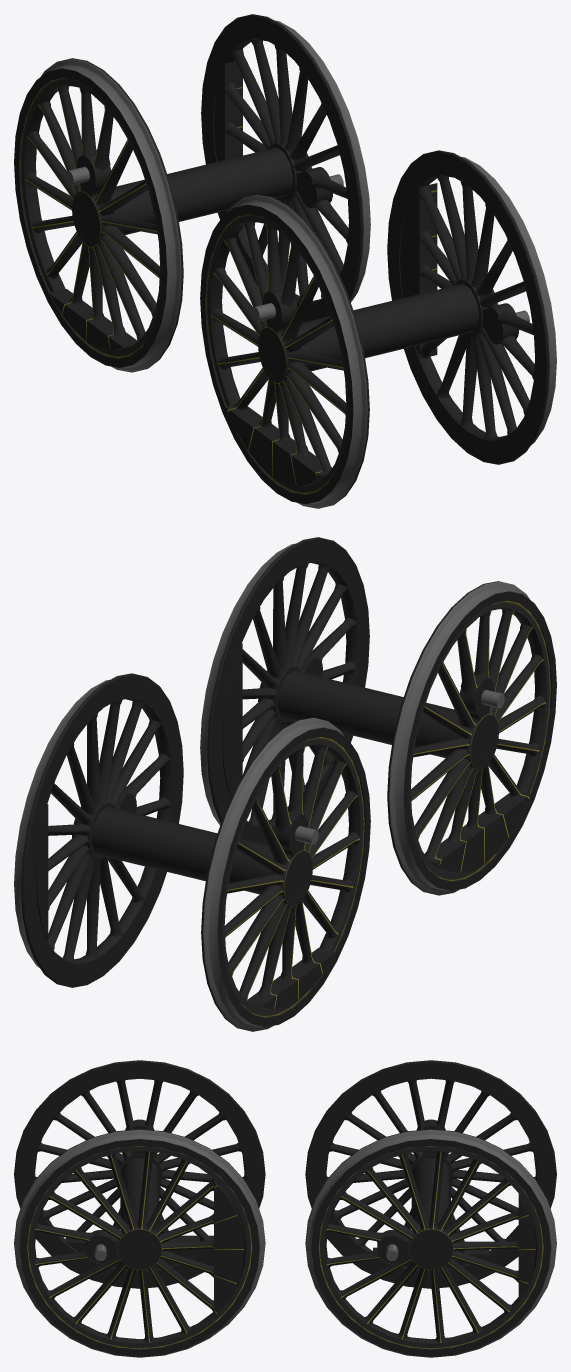
Rendered from prr80-26-17spoke.obj.
3 renders of one model, top to bottom at view 1: azimuth 30°, elevation 25°; view 2: azimuth 150°, elevation 25°; view 3: azimuth 270°, elevation 25°, orthographic. The views are drawn at different scales.
Visible parts, largest first — view 1: driverrear, driverfront; view 2: driverfront, driverrear; view 3: driverrear, driverfront.
Boxes of the visible parts, x1,y1,x2,y2 form: driverrear: (200, 150, 556, 508); driverfront: (14, 14, 370, 372); driverfront: (14, 673, 370, 1031); driverrear: (200, 537, 556, 895); driverrear: (14, 1060, 265, 1357); driverfront: (305, 1060, 556, 1357).
Size of the model in its own units: 7.39 by 8.38 by 18.09.
